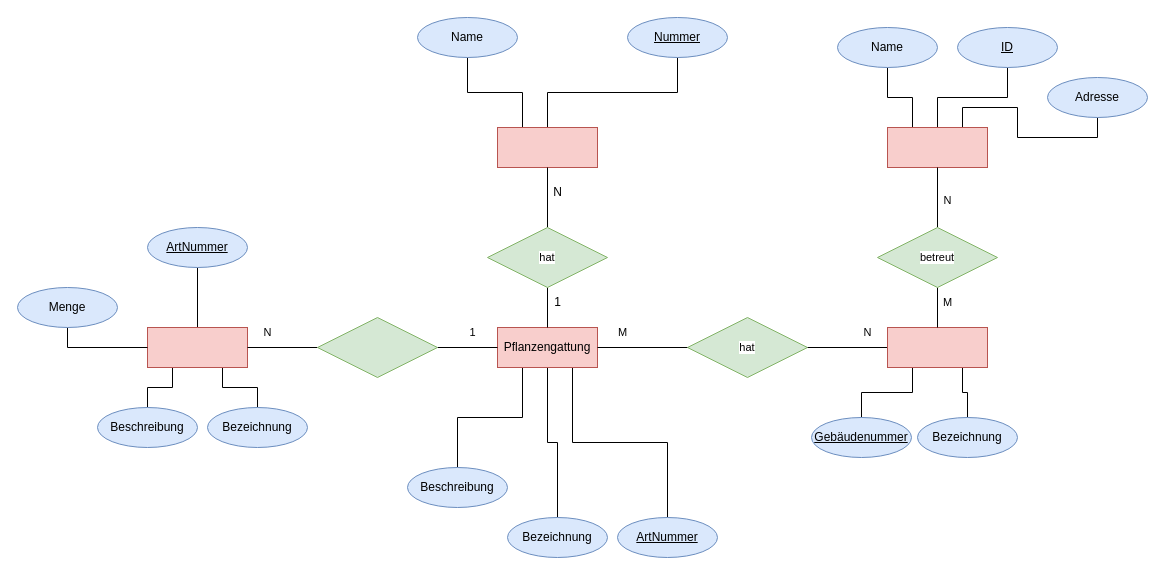
Image size: 1165x575. Some labels were removed from this diagram. The shapes that lost their labels are listed below. From the top down, each one's box as (x1, y1, x2, y2) in pixels, then its label:
(496, 126, 598, 168): Pflanze
(886, 126, 988, 168): Botaniker
(146, 326, 248, 368): Düngersorte
(316, 316, 438, 378): bekommt
(886, 326, 988, 368): Gewächshaus
